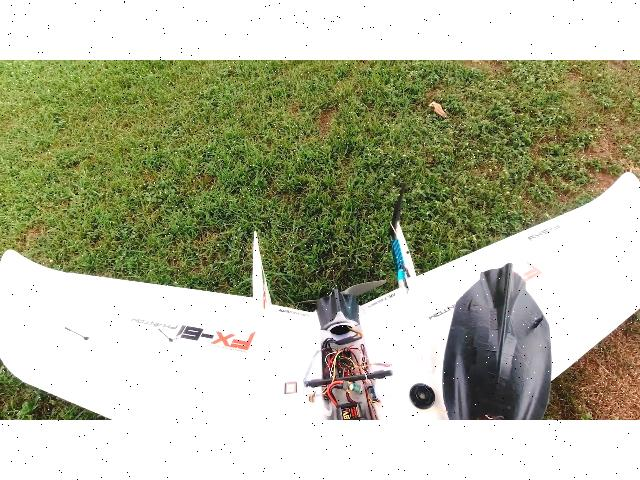Anti-Drone: (0, 162, 640, 420)
